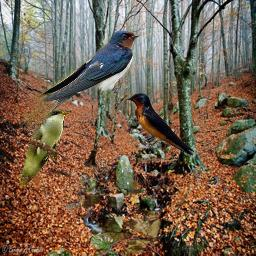Cuckoo: (18, 109, 72, 188)
Swallow: (23, 30, 141, 129), (125, 93, 194, 157)
